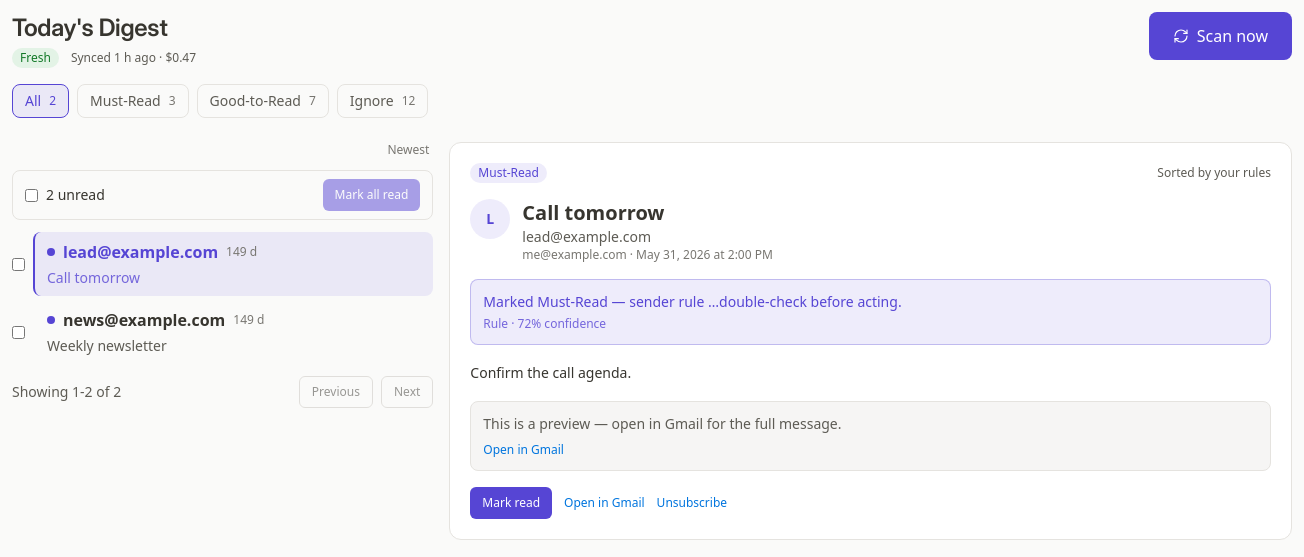
<DashboardPage> › shows the why-sorted banner and toggles the review caveat with needs_review
The image size is (1304, 557).
expect the text "Marked Must-Read — sender rule …double-check before acting." is shown: met, box [483,292,902,311]
Click the button "news@example.com 149 d Weekly newsletter" at [144, 320], box [33,300,433,364]
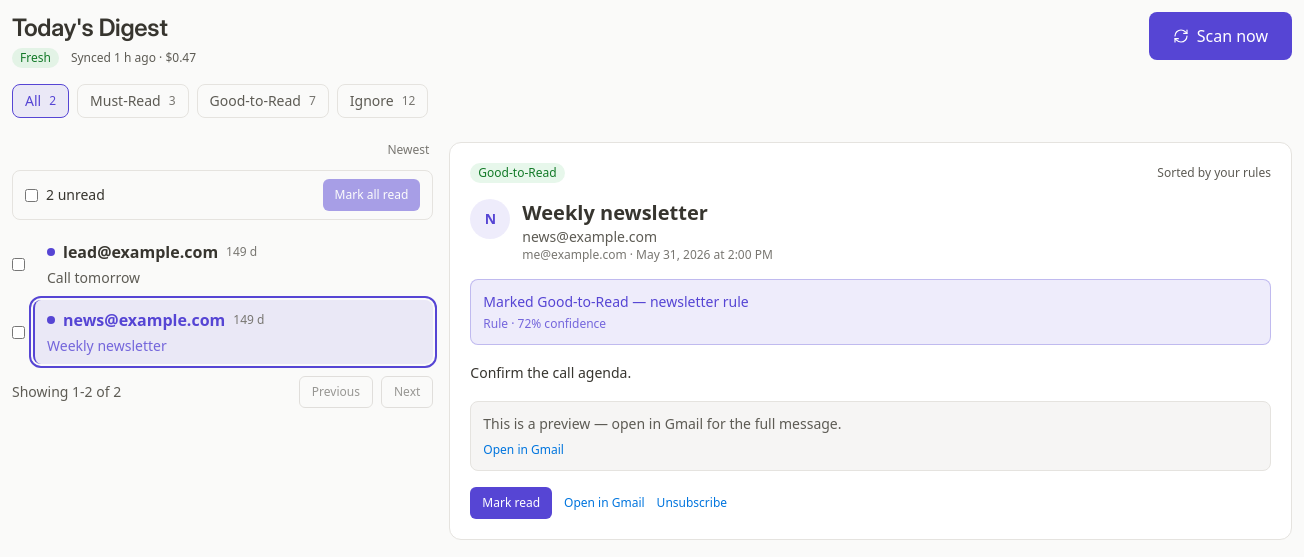
expect the heading "Weekly newsletter" is shown: met, box [522,199,708,226]
expect the text "double-check before acting" is gone: met
